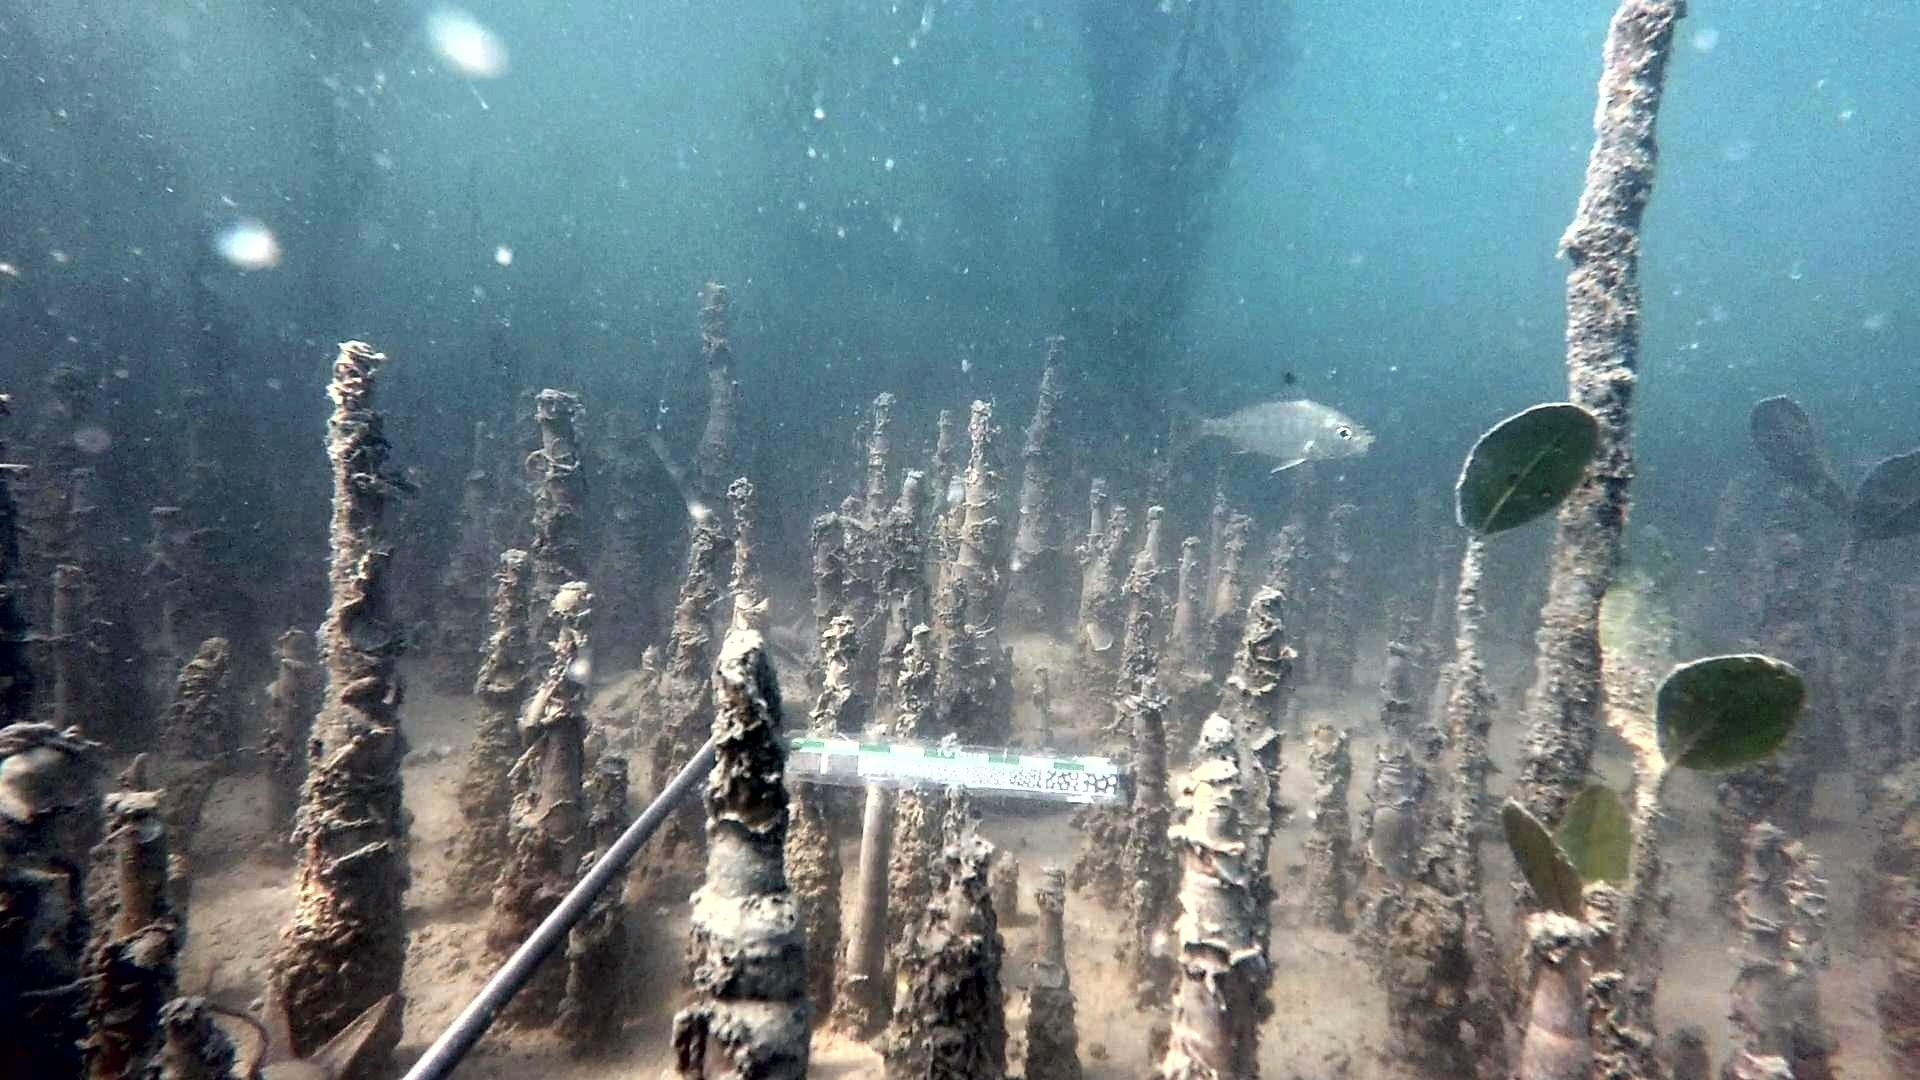gerres: (1160, 370, 1379, 475)
